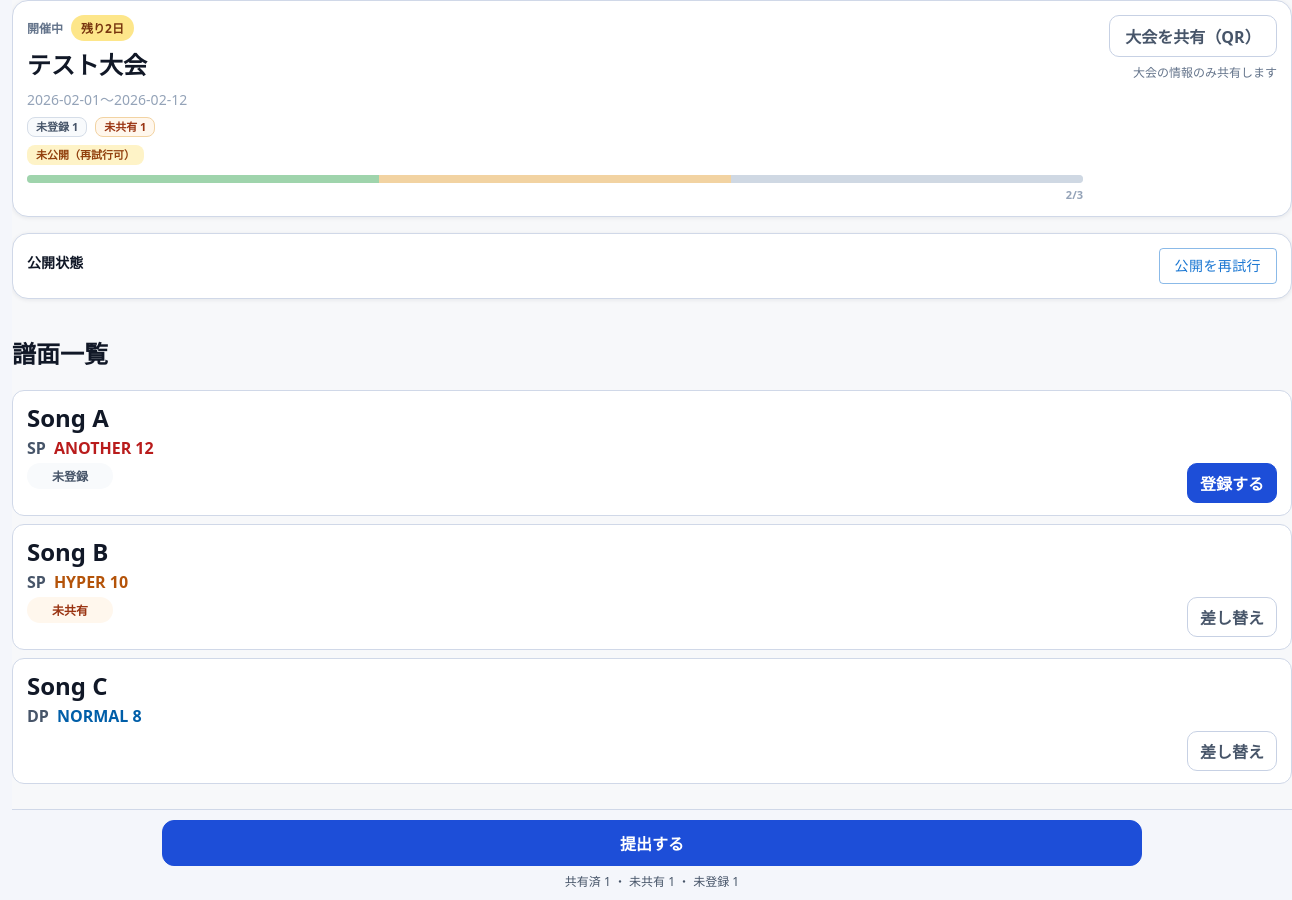
Test case: TournamentDetailPage › keeps retryable notice when publication retry fails
Click the button with test id "tournament-detail-publication-retry-button" at (1218, 266), box 1159,248 -> 1277,284
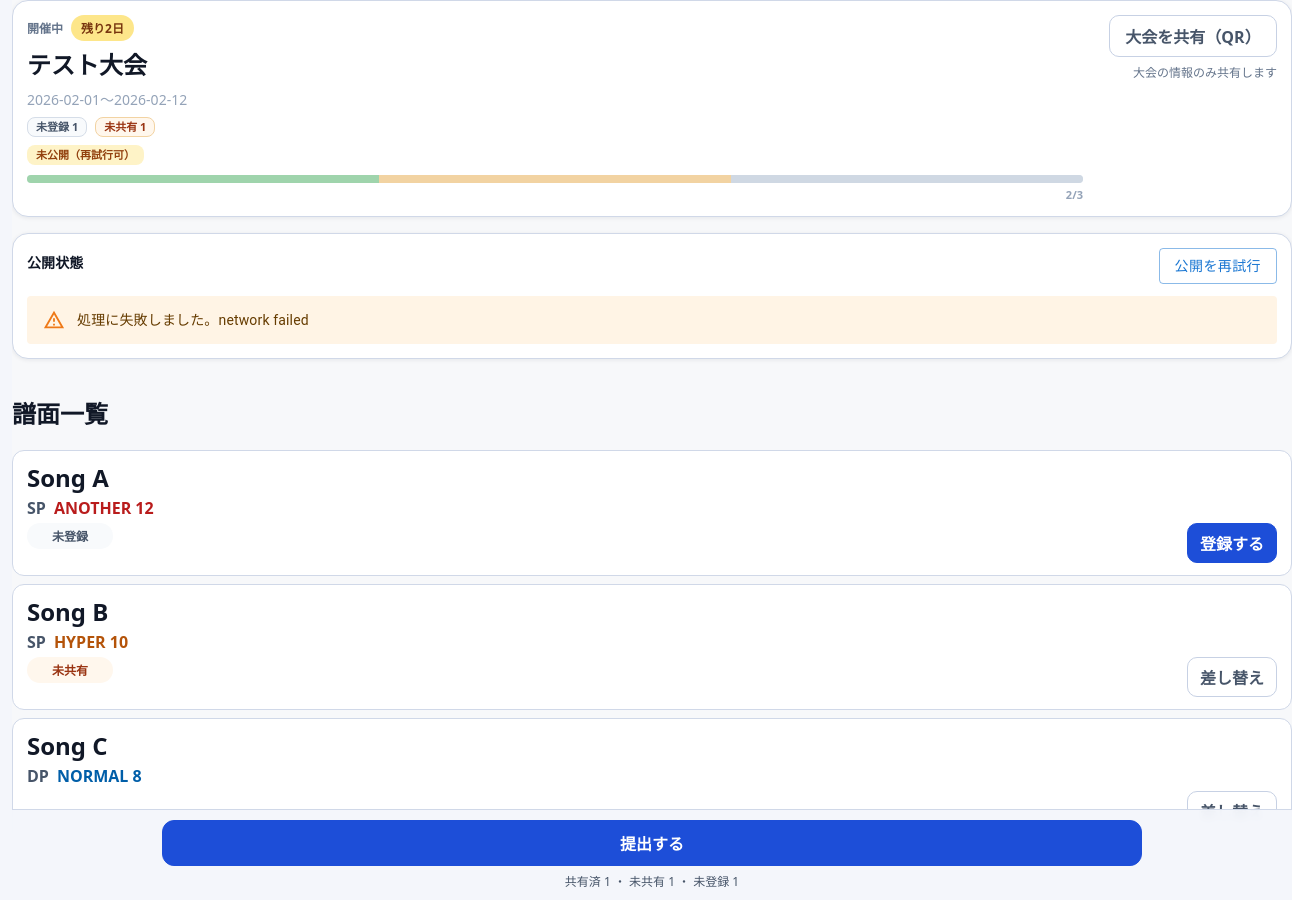
Check: the message with test id "tournament-detail-publication-notice" shows "network failed", box 77,312 -> 309,328
